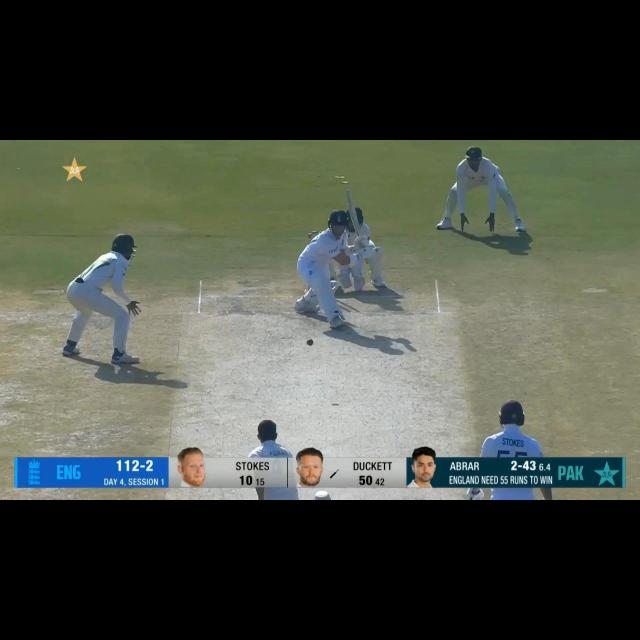bat: (343, 188, 363, 236)
toe: (344, 188, 355, 204)
